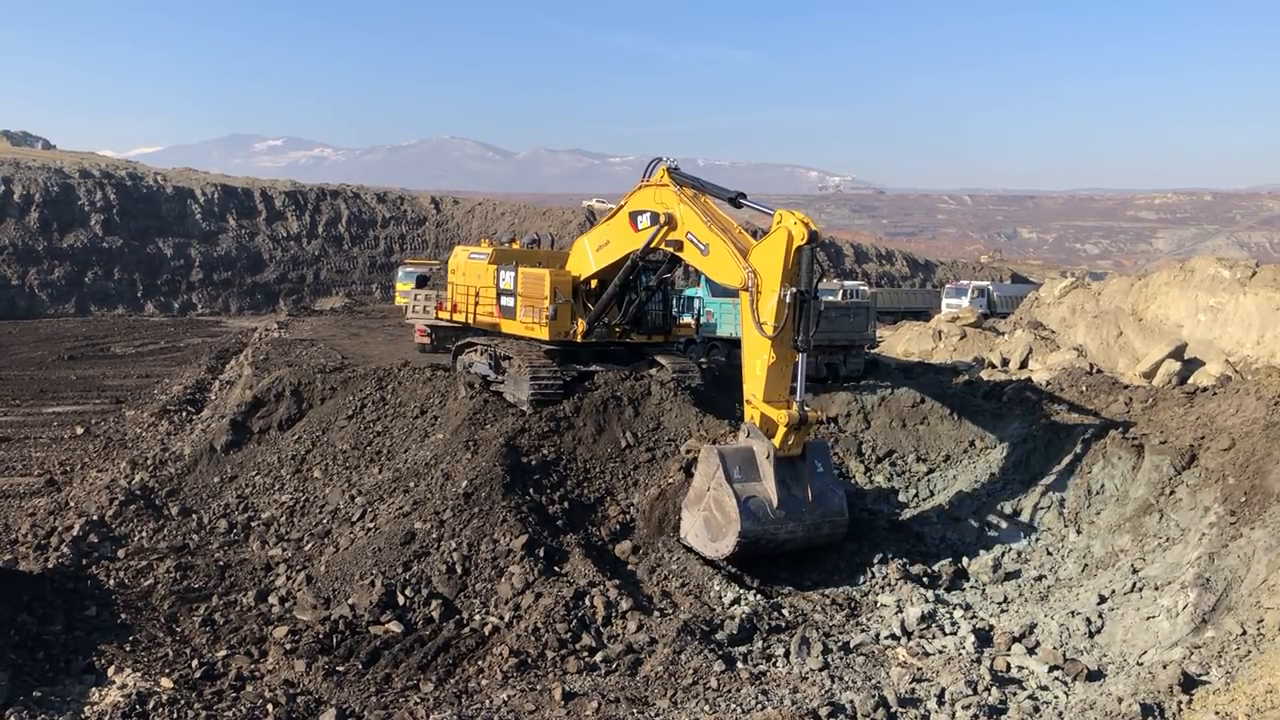full: (667, 433, 865, 573)
